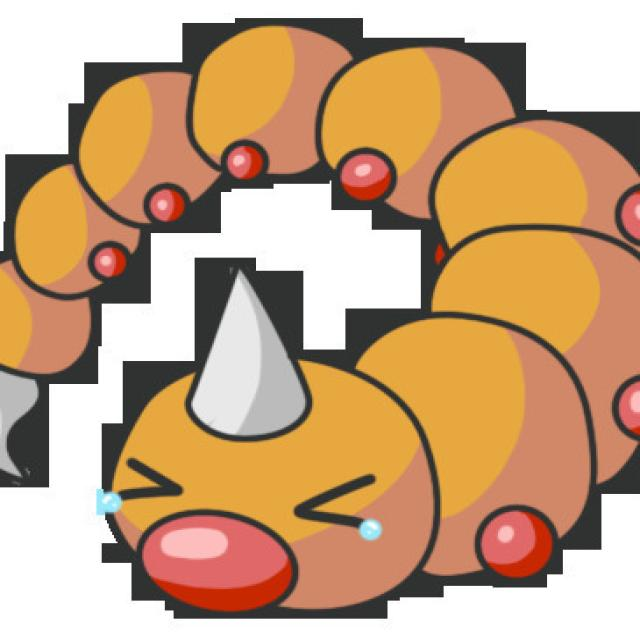Weedle: (83, 113, 636, 612)
